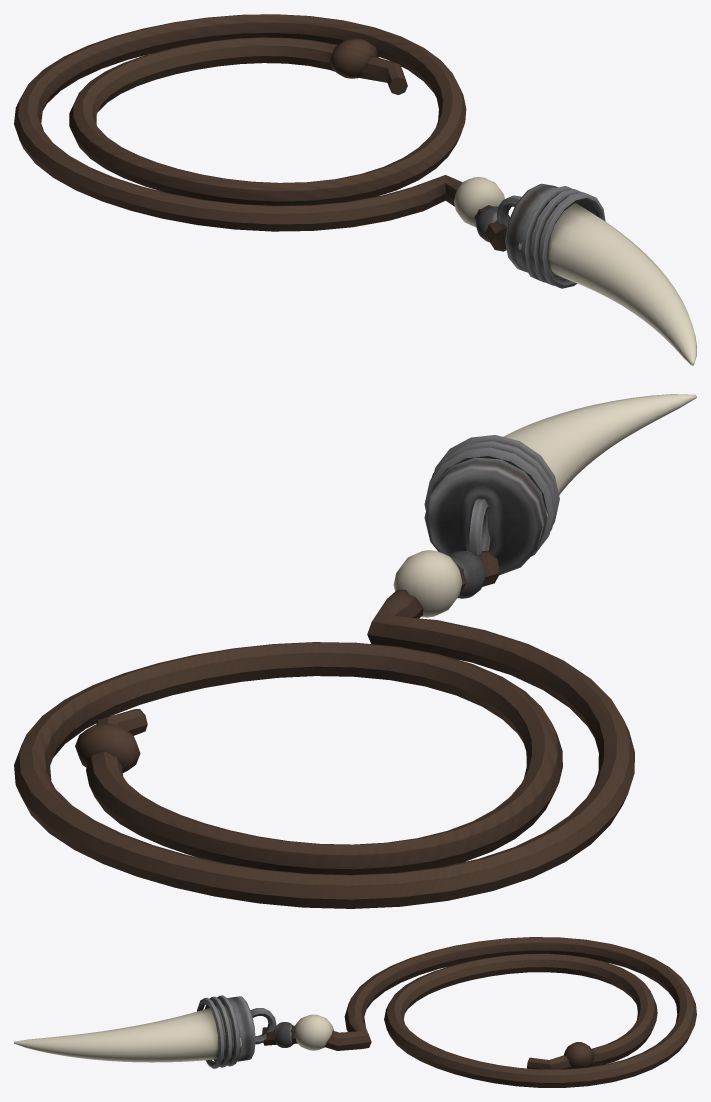
The model's file is LostPendant.fbx.
3 views of the same model, one above another, from view 1: azimuth 30°, elevation 25°; view 2: azimuth 150°, elevation 25°; view 3: azimuth 270°, elevation 25° (orthographic). The views are drawn at different scales.
Parts seen in each view (by area): view 1: LostPendant; view 2: LostPendant; view 3: LostPendant.
Boxes of the visible parts, box(x1,y1,x2,y2) form: LostPendant: box(14, 14, 696, 365); LostPendant: box(14, 394, 696, 908); LostPendant: box(14, 937, 696, 1087).
Bounding box in the file's own units: 40.46 × 8.69 × 82.99.
